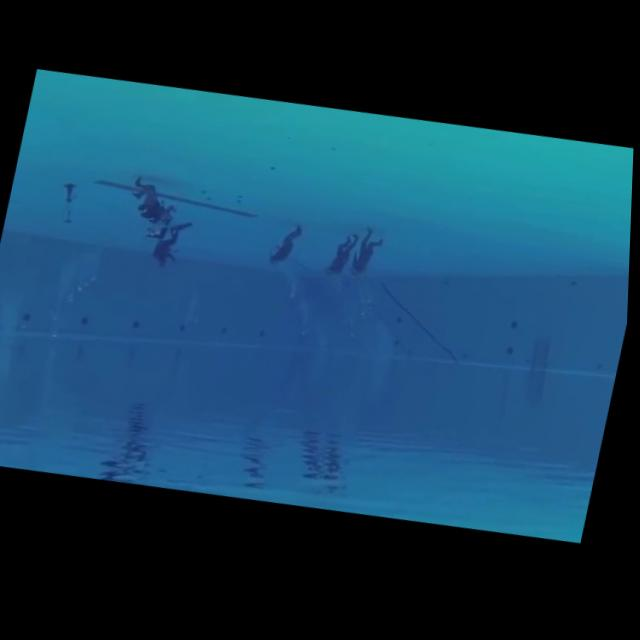human: (120, 167, 190, 235), (147, 214, 199, 283), (344, 224, 393, 293), (318, 227, 365, 293), (264, 219, 311, 278)
